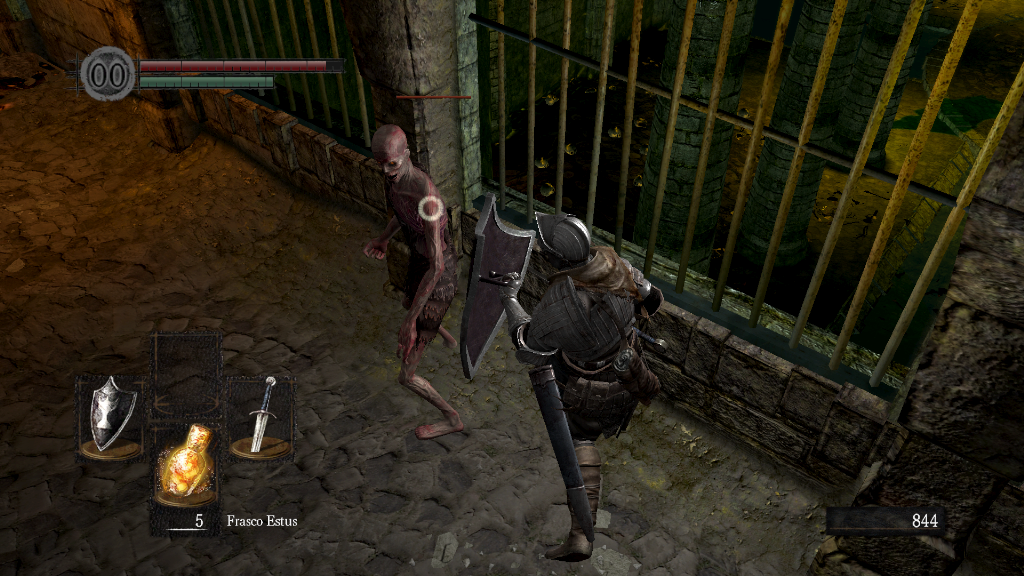health: (138, 58, 343, 71)
hollow: (361, 122, 463, 440)
humanity: (80, 45, 136, 102)
player: (454, 193, 667, 567)
souls: (825, 506, 945, 536)
stamina: (138, 74, 274, 88)
